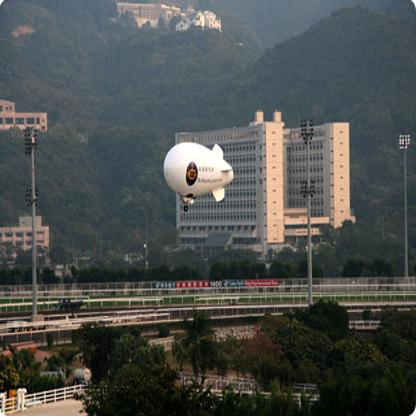Airship: (159, 139, 236, 211)
